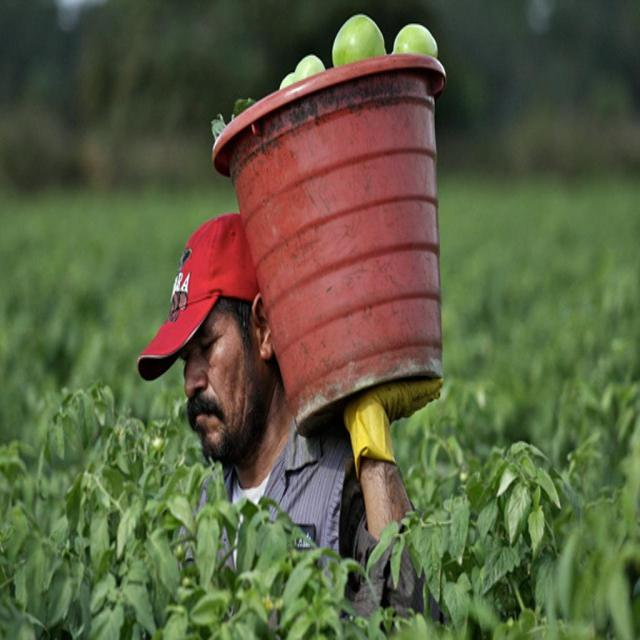Face: (179, 317, 260, 469)
